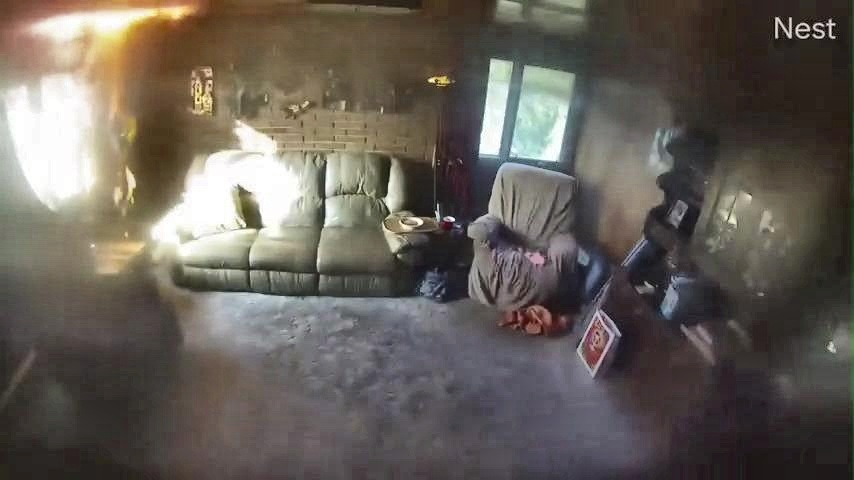fire: (2, 2, 199, 213)
